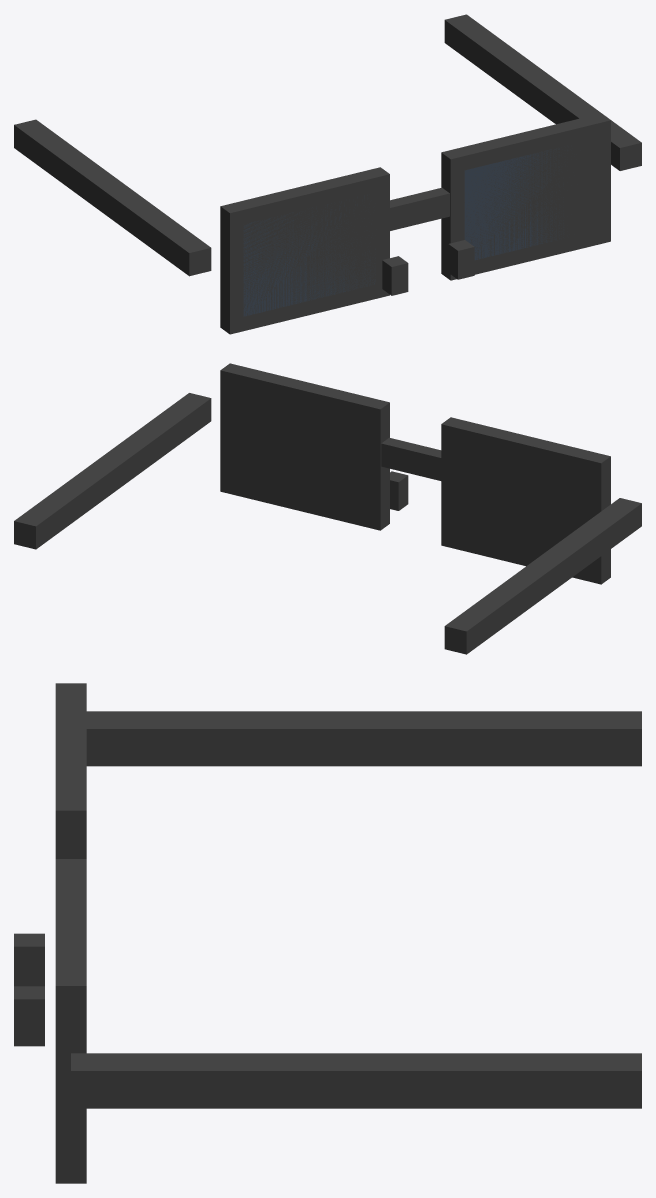
Rendered from wayfarer.glb.
3 views of the same model, one above another, from view 1: azimuth 30°, elevation 25°; view 2: azimuth 150°, elevation 25°; view 3: azimuth 270°, elevation 25° (orthographic). The views are drawn at different scales.
Parts seen in each view (by area): view 1: wayfarer-black; view 2: wayfarer-black; view 3: wayfarer-black.
Part boxes in pixels (x1,y1,x2,y2): wayfarer-black: [14, 14, 641, 334]; wayfarer-black: [14, 363, 641, 654]; wayfarer-black: [14, 683, 641, 1183].
Bounding box in the file's own units: 1.64 × 0.42 × 1.21.
